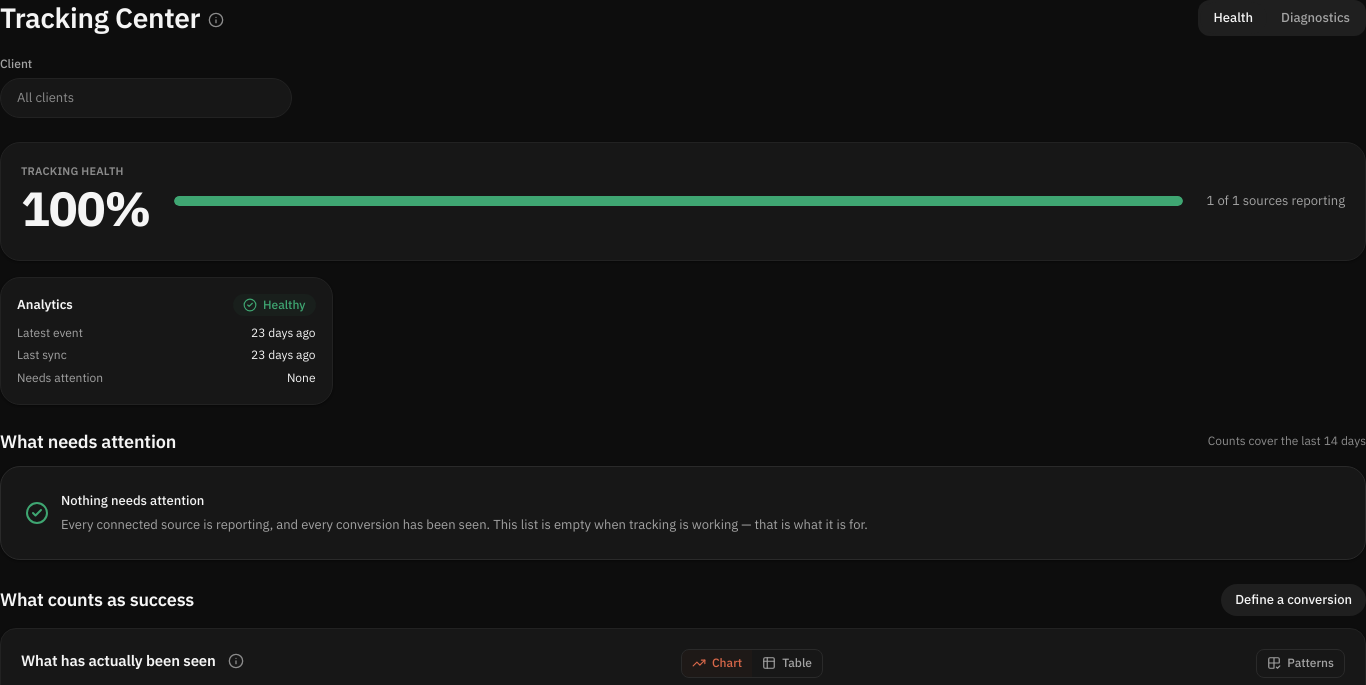
Test case: the tracking centre › opens on health and keeps the source-by-source working one click away
Expected: the text "Nothing needs attention" is shown, [61,491,204,510]
Expected: the heading "What is measuring" is not shown
Step 1. Click the button "Diagnostics" → (1316, 18), box [1267,2,1364,34]
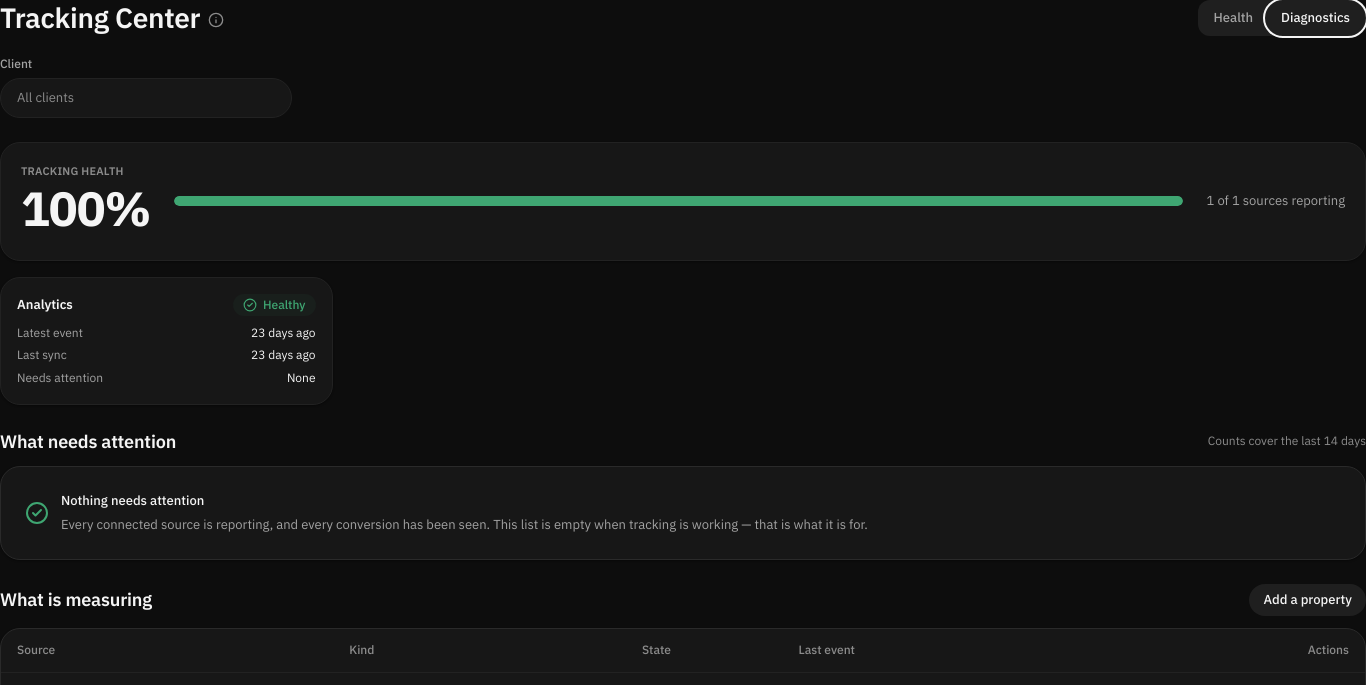
Expected: the heading "What is measuring" is shown, [0,588,152,613]
